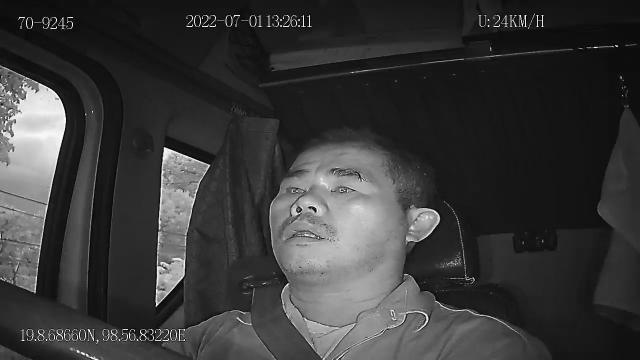SafeDriving: (324, 174, 364, 201)
Seatbelt: (250, 286, 324, 360)
